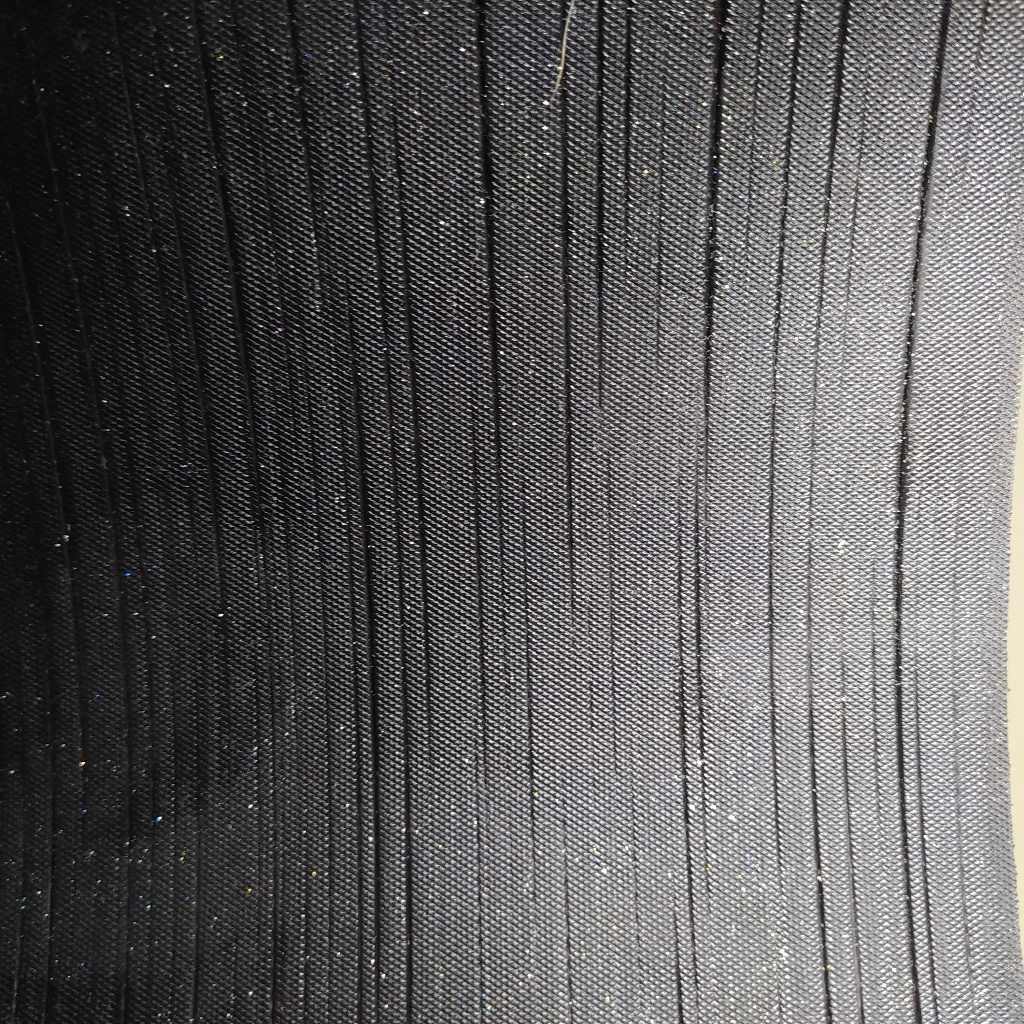friso grande: (760, 414, 785, 892), (618, 8, 640, 277), (398, 768, 418, 1020), (694, 661, 713, 918), (558, 134, 575, 401), (297, 87, 323, 256), (903, 202, 923, 405), (561, 401, 579, 626), (703, 66, 730, 211), (675, 738, 699, 897), (702, 211, 722, 398), (420, 520, 435, 768), (689, 465, 708, 660), (393, 578, 412, 770), (918, 71, 943, 205), (269, 759, 281, 1023), (814, 894, 838, 1021), (40, 883, 61, 1023), (184, 891, 205, 1023), (402, 276, 423, 407), (667, 899, 689, 1024), (74, 672, 89, 850), (366, 682, 384, 826), (768, 253, 784, 414), (477, 575, 489, 787), (777, 127, 797, 254), (388, 452, 407, 585), (236, 295, 260, 400), (594, 201, 606, 409), (674, 606, 692, 740), (816, 161, 837, 274), (372, 825, 384, 1021), (113, 904, 133, 1020), (594, 0, 605, 202), (68, 561, 88, 671), (470, 431, 485, 575), (278, 290, 296, 410), (301, 811, 311, 1023), (11, 888, 27, 1020), (266, 608, 279, 761), (286, 2, 309, 88), (247, 398, 266, 502), (480, 159, 498, 268), (58, 458, 77, 561), (478, 54, 497, 157), (365, 570, 382, 685), (99, 422, 120, 513), (258, 497, 275, 609), (803, 566, 817, 701), (556, 43, 576, 137), (920, 786, 932, 942), (672, 461, 685, 605), (487, 270, 501, 403), (809, 804, 829, 894), (361, 80, 378, 185), (708, 0, 734, 68), (785, 31, 803, 129), (490, 402, 508, 499), (893, 521, 906, 655), (380, 293, 396, 401), (689, 896, 704, 1010), (197, 403, 221, 474), (369, 183, 384, 296), (351, 738, 364, 867), (359, 474, 376, 572), (931, 0, 953, 74), (412, 406, 426, 521), (833, 0, 857, 67), (805, 700, 820, 807), (193, 311, 210, 405), (893, 432, 910, 523), (827, 65, 843, 161), (343, 477, 357, 585), (227, 213, 245, 297), (122, 811, 138, 904), (357, 866, 366, 1023), (42, 403, 68, 455), (45, 789, 59, 883), (924, 944, 940, 1024), (181, 242, 199, 313), (40, 338, 60, 400), (16, 796, 29, 890), (119, 618, 130, 727), (214, 148, 232, 214), (205, 82, 223, 148), (898, 809, 913, 887), (43, 713, 59, 786), (116, 512, 127, 618), (915, 658, 924, 786), (196, 24, 215, 84), (896, 730, 910, 809), (354, 4, 368, 82), (700, 400, 716, 468), (352, 586, 359, 740), (123, 727, 135, 814), (892, 653, 905, 733), (352, 403, 366, 476), (474, 0, 491, 60), (906, 883, 920, 952), (337, 403, 349, 478), (387, 400, 403, 456), (169, 191, 186, 243), (910, 948, 921, 1022), (207, 477, 222, 528), (560, 0, 575, 44), (793, 5, 811, 38), (895, 399, 912, 432), (176, 403, 189, 440), (752, 1, 770, 26)
friso pequeno: (599, 439, 630, 786), (520, 616, 542, 904), (864, 553, 884, 848), (624, 785, 648, 1011), (557, 777, 578, 1024), (469, 772, 485, 1019), (835, 611, 852, 828), (341, 268, 367, 404), (843, 830, 863, 1003), (960, 879, 983, 1023), (653, 187, 671, 371), (288, 538, 300, 752), (742, 117, 761, 248), (516, 469, 533, 615), (497, 495, 511, 665), (812, 272, 828, 413), (325, 807, 335, 1024), (321, 660, 335, 808), (951, 637, 964, 793), (912, 497, 924, 658), (164, 902, 179, 1022), (274, 419, 289, 536), (143, 632, 155, 777), (806, 408, 817, 564), (655, 94, 671, 190), (749, 29, 766, 119), (145, 885, 156, 1023), (318, 552, 332, 660), (145, 191, 166, 262), (166, 808, 181, 904), (310, 456, 324, 555), (194, 794, 208, 893), (88, 351, 108, 419), (133, 338, 154, 402), (397, 161, 408, 279), (270, 206, 285, 291), (956, 794, 970, 884), (952, 438, 966, 527), (258, 122, 273, 205), (104, 274, 120, 351), (388, 80, 403, 161), (130, 464, 144, 549), (215, 531, 228, 622), (169, 320, 183, 402), (117, 208, 132, 284), (148, 776, 158, 887), (72, 290, 91, 348), (181, 439, 194, 521), (145, 404, 161, 470), (169, 703, 179, 808), (139, 545, 151, 632), (114, 350, 128, 424), (949, 525, 958, 640), (849, 151, 864, 218), (844, 219, 857, 296), (969, 54, 981, 134), (127, 279, 143, 339), (837, 295, 847, 390), (855, 95, 871, 152), (158, 258, 171, 321), (137, 145, 152, 193), (978, 3, 991, 54), (307, 400, 318, 458), (132, 93, 141, 147), (855, 1001, 872, 1024)
